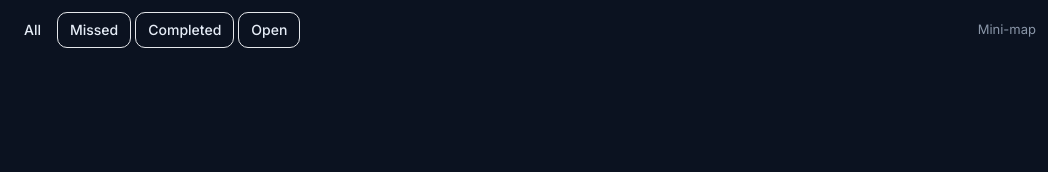
Test: MapControls › clicking Missed sets ?filter=missed
The width and height of the screenshot is (1048, 172).
Click the button "Missed".
click(94, 30)  # box [57,12,131,48]
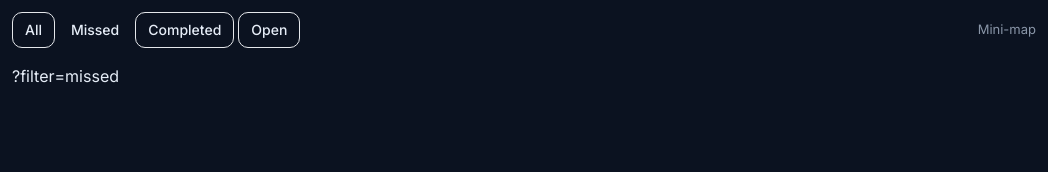
Expected: the text with test id "search" shows "filter=missed", [12,66,119,86]
